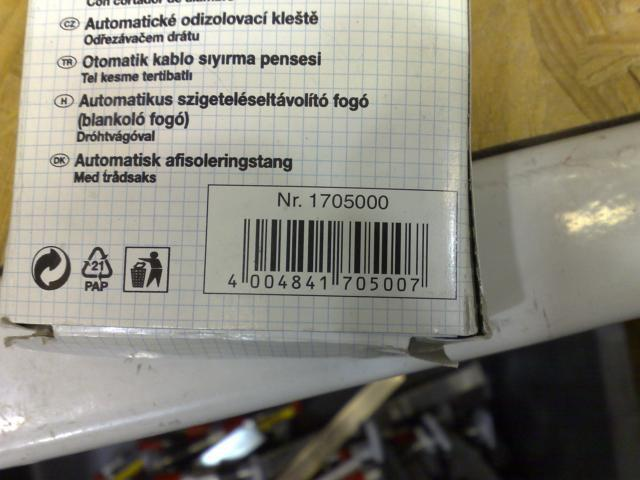Barcode: (218, 214, 435, 299)
